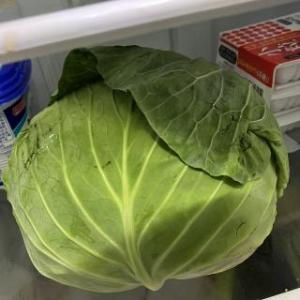cabbage: (2, 49, 290, 296)
